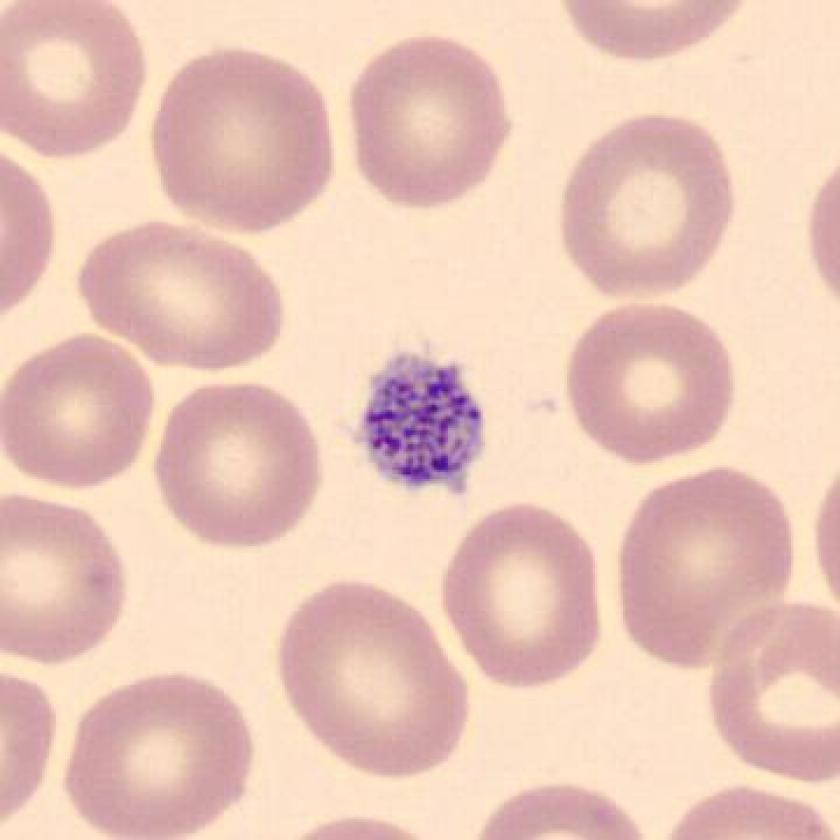platelets: (356, 341, 489, 506)
